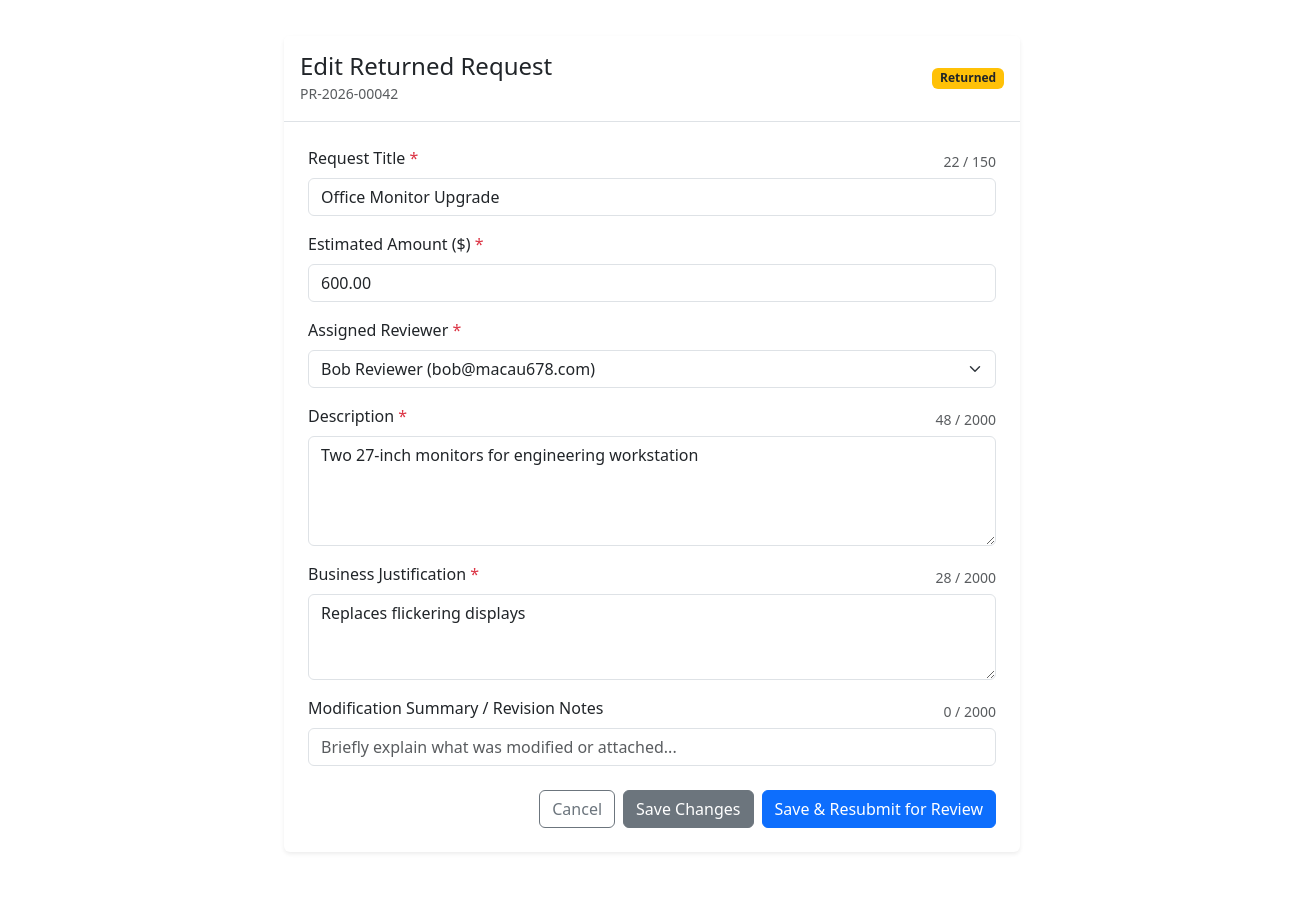
Frontend component tests: Authentication and Authorization › EditRequest save and submit behavior (Draft, Pending Review, Returned) › saves and resubmits a RETURNED request when clicking Save & Resubmit for Review
This screenshot has width=1292, height=912.
Replace the text in the number field labelled "Estimated Amount ($) *" with "580.00". click: (652,283)
box: [308, 264, 996, 302]
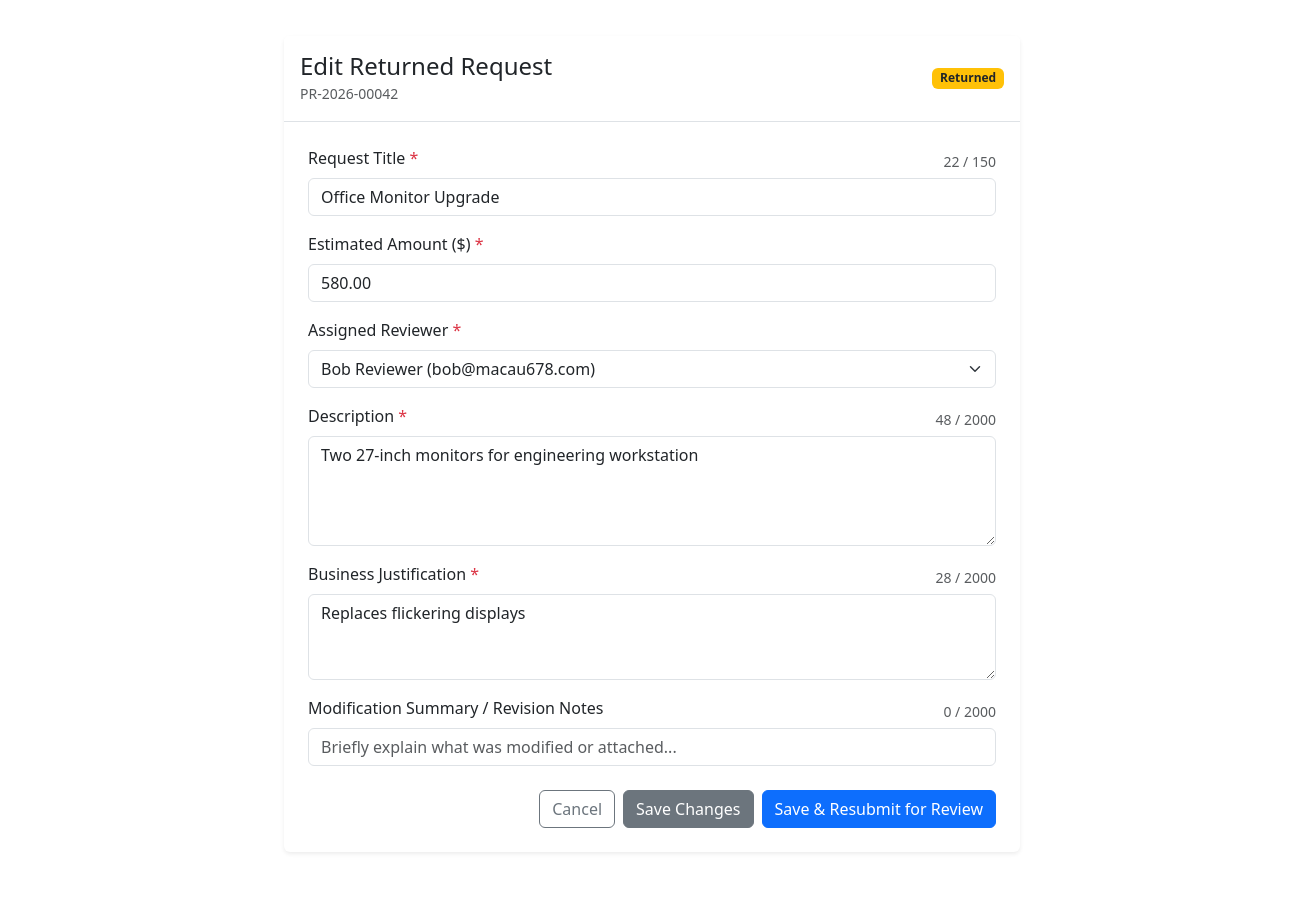
Type "Attached vendor quote" into the field labelled "Modification Summary / Revision Notes". click: (652,747)
box: [308, 728, 996, 766]
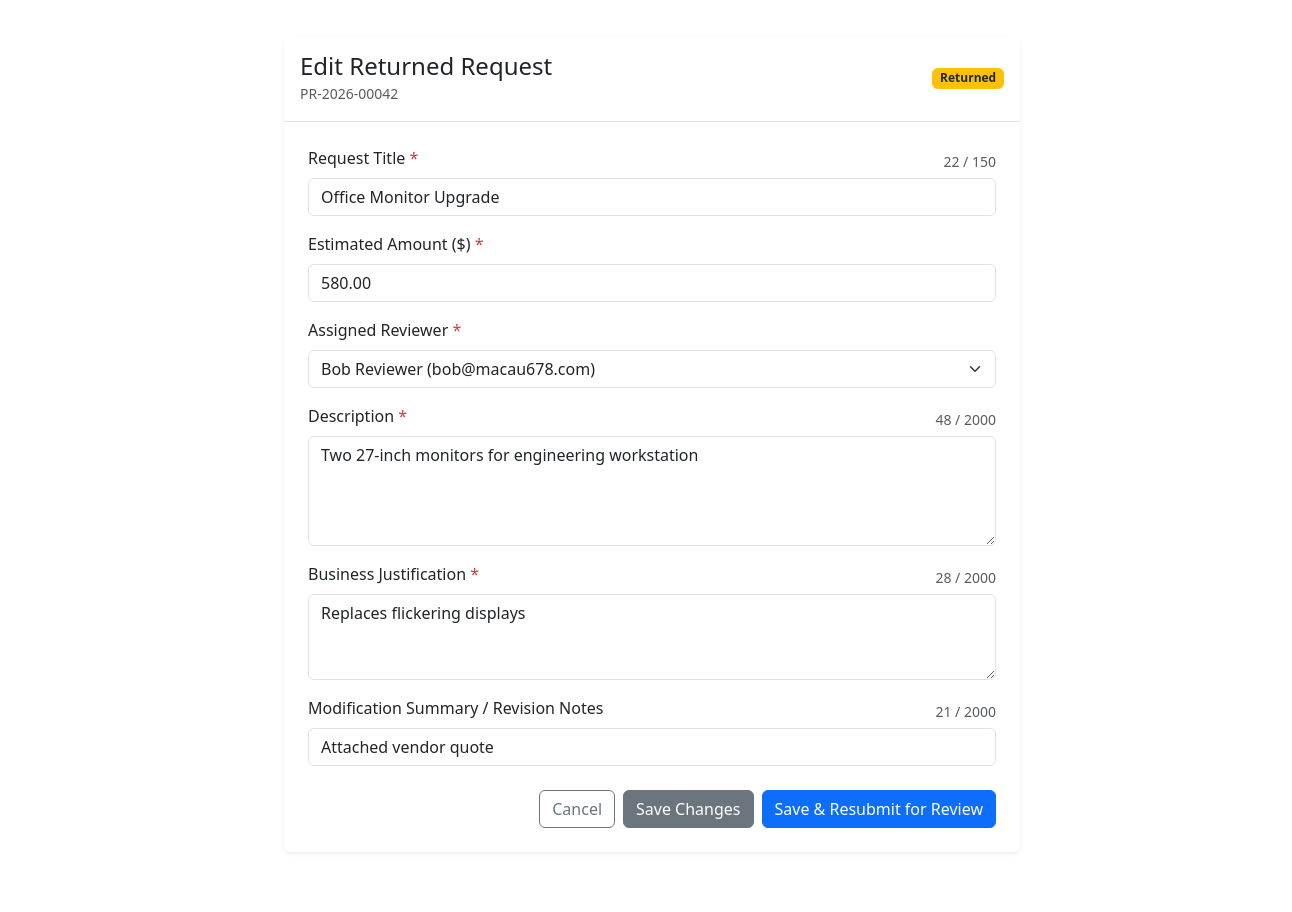
Click the button "Save & Resubmit for Review". click: (879,809)
box: [762, 790, 996, 828]
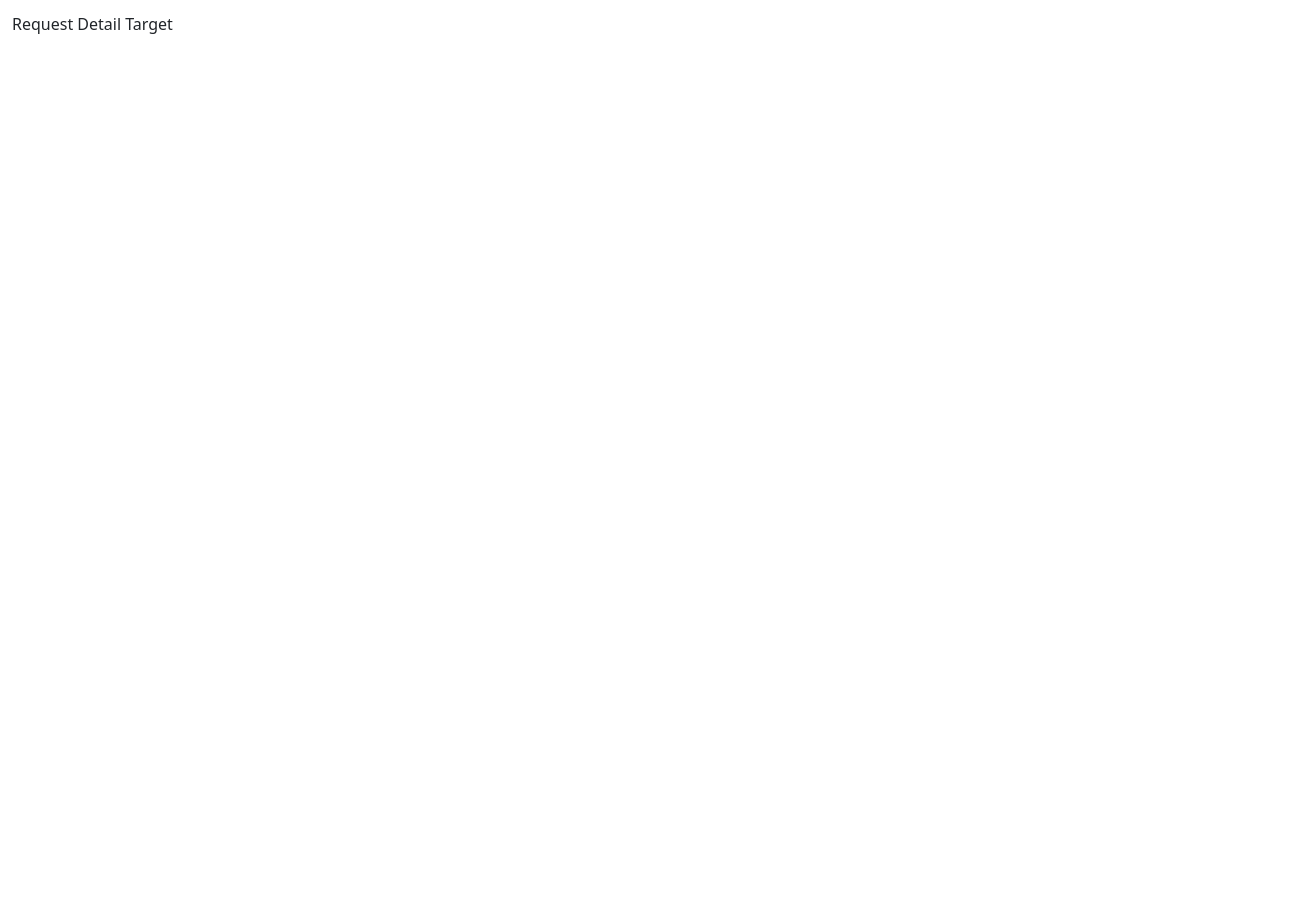
Expected: the text "Request Detail Target" is shown, [12, 13, 173, 35]
